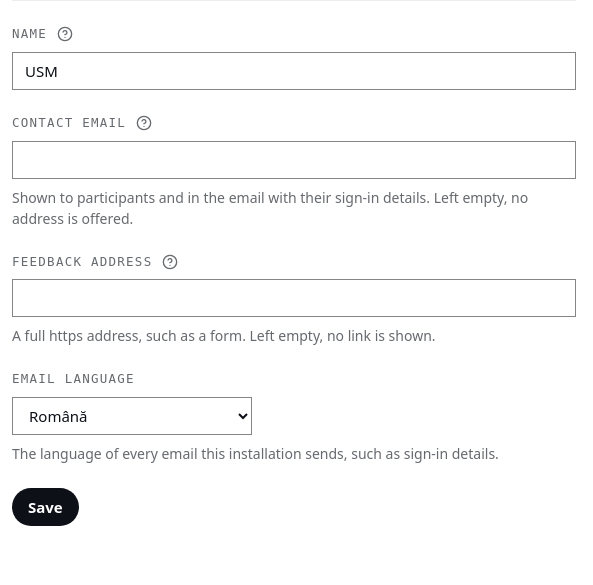
Test: SettingsForm, the feedback address › refuses an address that is not https before sending anything
Type "http://forms.gle/beta" into the field labelled "Feedback address" at point(294, 298), box [12,279,576,317]
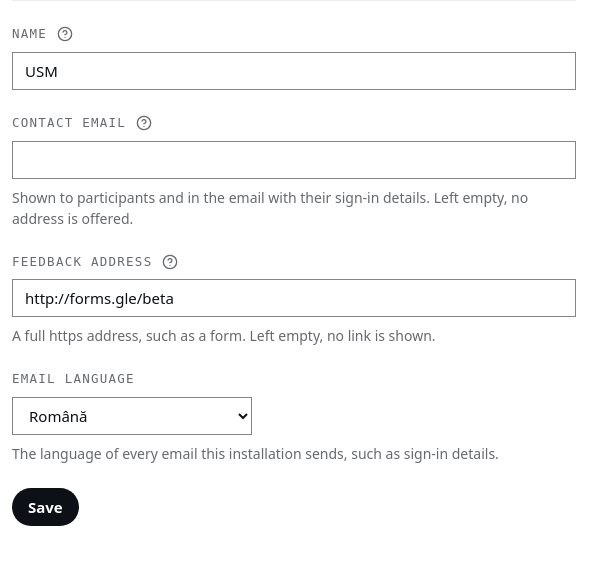
Click the button "Save" at point(45, 507), box [12,488,79,526]
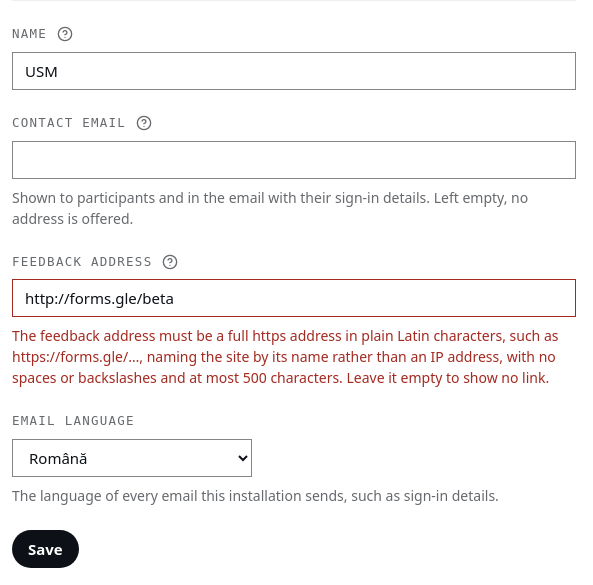
Expected: the message shows "The feedback address must be a full https address in plain Latin characters, such as https://forms.gle/…, naming the site by its name rather than an IP address,", [12,326,558,387]
